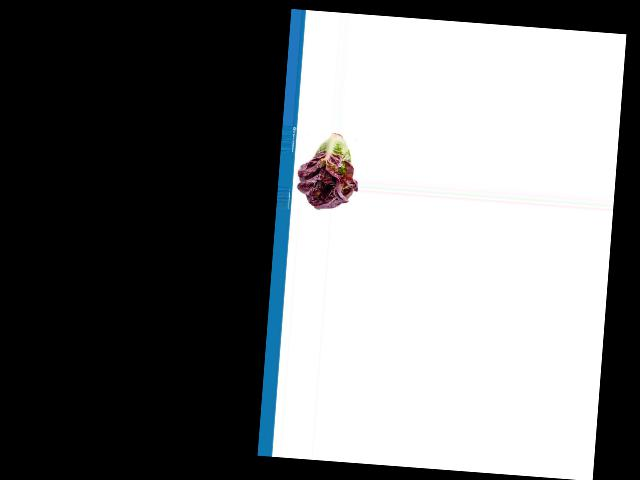lettuce: (295, 129, 359, 210)
